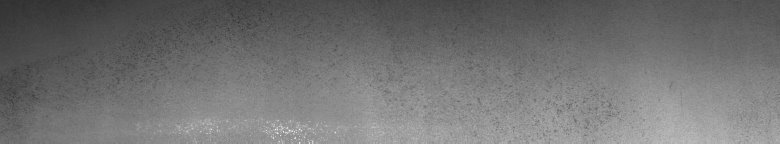ib: (124, 8, 318, 136)
